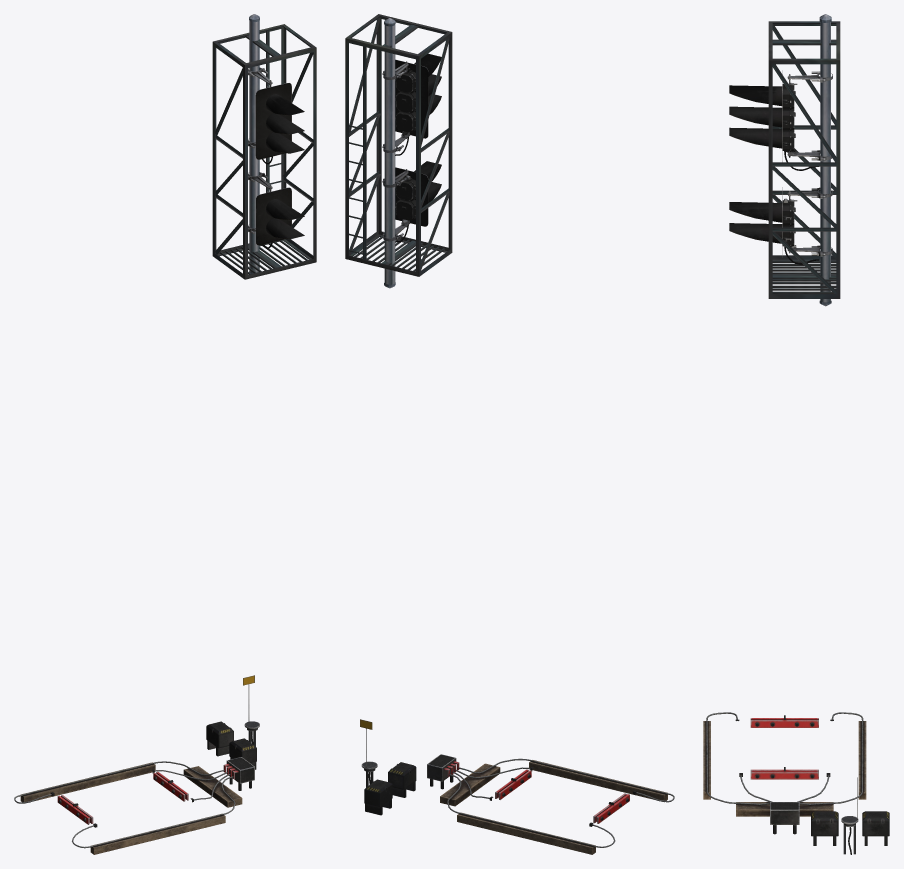
Rendered from RM_sig_P_RM1_3+2_exit.gltf.
The picture shows the model from 3 angles, left to right: view 1: azimuth 30°, elevation 25°; view 2: azimuth 150°, elevation 25°; view 3: azimuth 270°, elevation 25°; orthographic projection. The views are drawn at different scales.
Parts seen in each view (by area): view 1: Object_1, Изостык, Object002; view 2: Object_1, Изостык, Object002; view 3: Object_1, Изостык, Object002.
Part boxes in pixels (bbox=[...]): Object_1: bbox=[212, 14, 316, 279]; Изостык: bbox=[14, 675, 259, 854]; Object002: bbox=[248, 67, 304, 248]; Object_1: bbox=[345, 14, 452, 288]; Изостык: bbox=[360, 719, 674, 854]; Object002: bbox=[382, 53, 441, 242]; Object_1: bbox=[768, 14, 840, 306]; Изостык: bbox=[703, 712, 889, 854]; Object002: bbox=[729, 70, 832, 264].
Size of the model in its own units: 4.42 by 12.01 by 2.43.
Materials: 5 (3 with a texture image).
